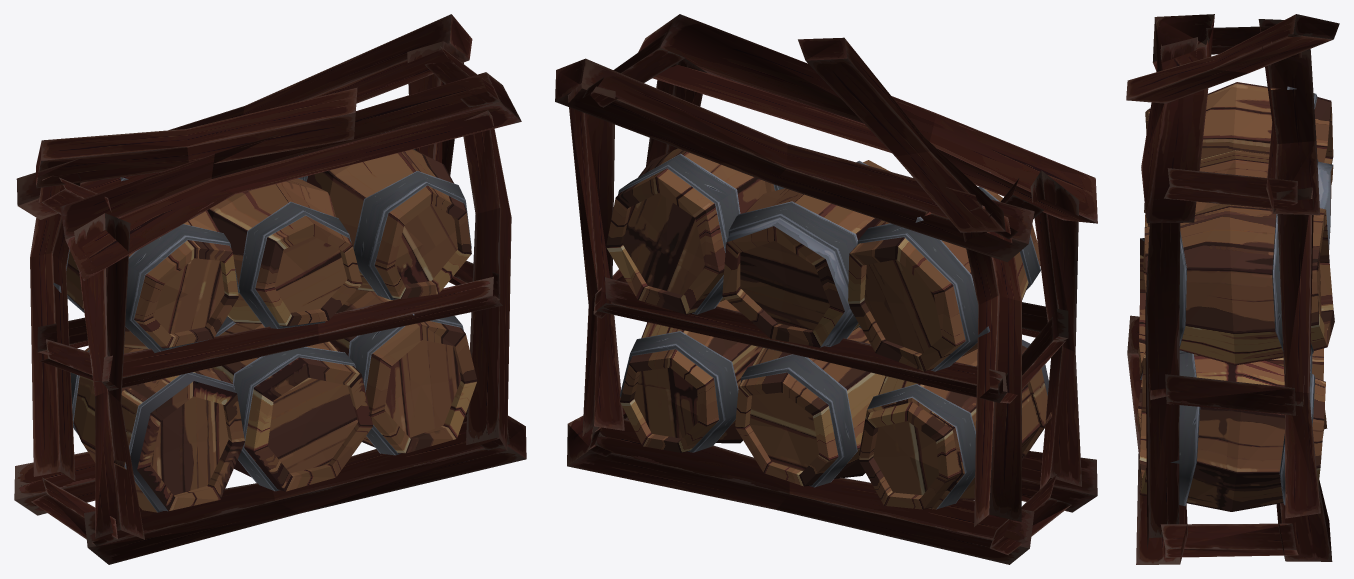
The model's file is FIG0110003.FBX.
3 renders of one model, left to right at view 1: azimuth 30°, elevation 25°; view 2: azimuth 150°, elevation 25°; view 3: azimuth 270°, elevation 25°, orthographic. The views are drawn at different scales.
Visible parts, largest first — view 1: smFIG0110003; view 2: smFIG0110003; view 3: smFIG0110003.
Part boxes in pixels (<box>): smFIG0110003: <box>14,14,526,564</box>; smFIG0110003: <box>555,14,1097,564</box>; smFIG0110003: <box>1126,14,1339,564</box>.
Bounding box in the file's own units: 2.49 × 2.1 × 1.
Materials: 3 (3 with a texture image).
